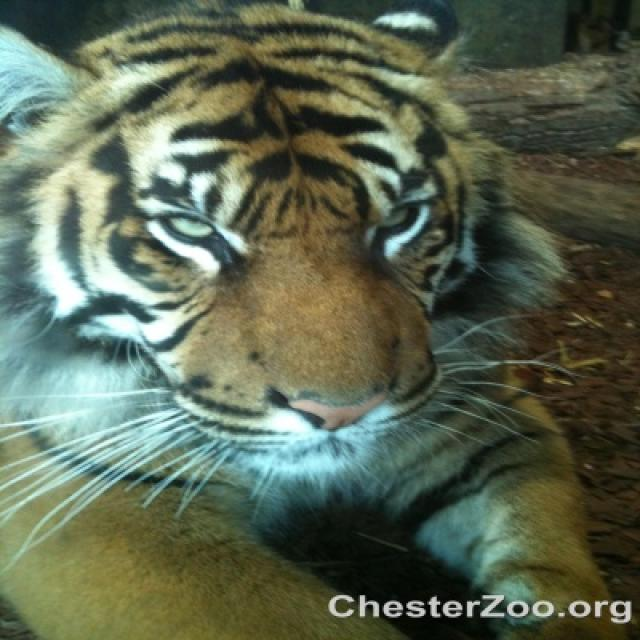Tiger: (1, 6, 615, 638)
